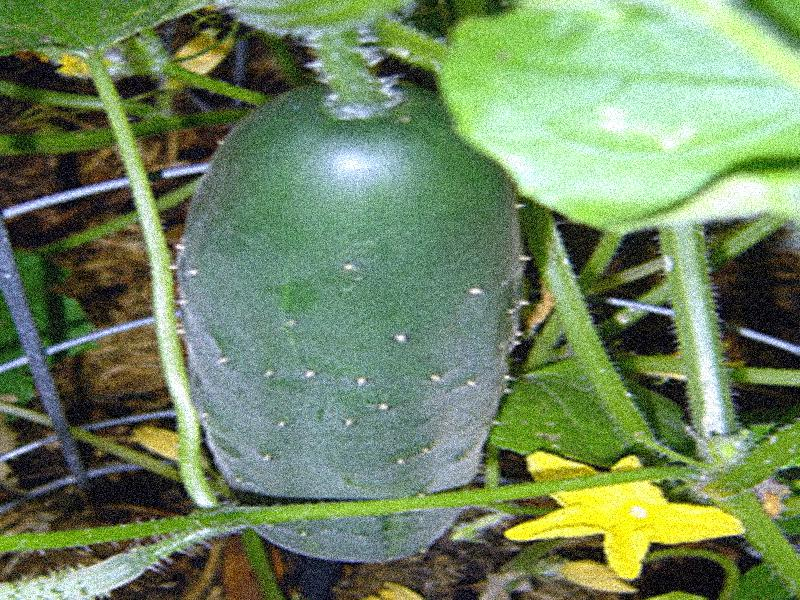Cucumber: (180, 73, 523, 558)
